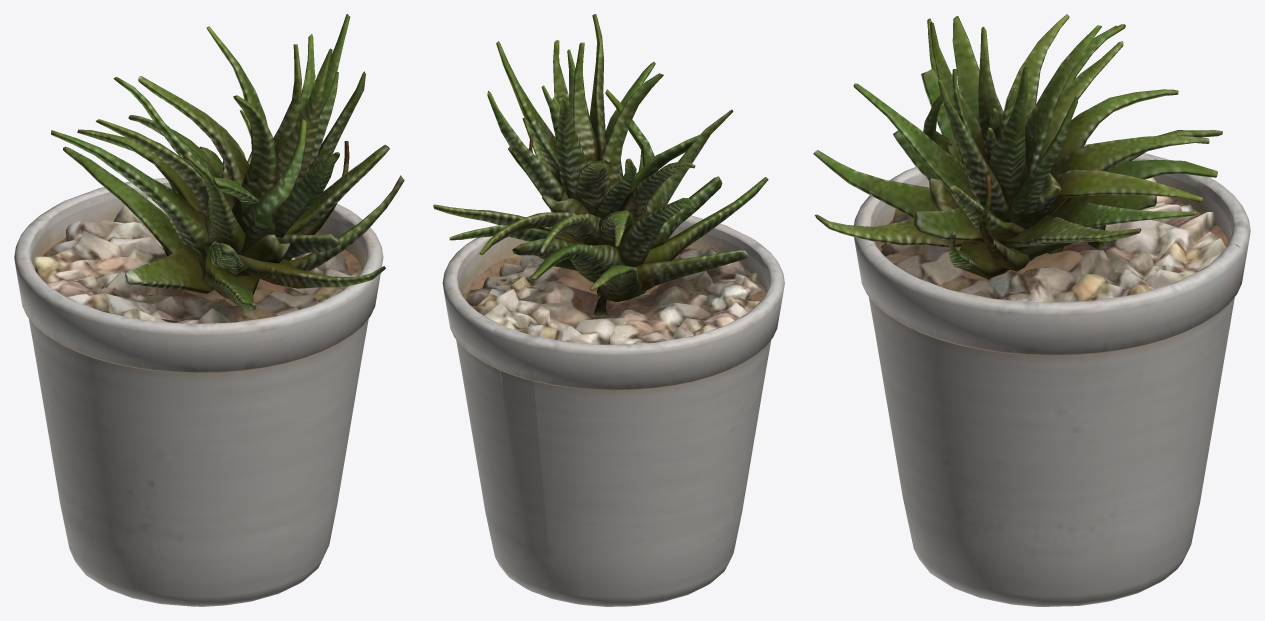
The model's file is aloe-pot.glb.
3 renders of one model, left to right at view 1: azimuth 30°, elevation 25°; view 2: azimuth 150°, elevation 25°; view 3: azimuth 270°, elevation 25°, orthographic. The views are drawn at different scales.
Visible parts, largest first — view 1: potted_plant_04_pot, potted_plant_04_plant, potted_plant_04_ground, potted_plant_04_dirt; view 2: potted_plant_04_pot, potted_plant_04_plant, potted_plant_04_ground, potted_plant_04_dirt; view 3: potted_plant_04_pot, potted_plant_04_plant, potted_plant_04_ground, potted_plant_04_dirt.
Part boxes in pixels (bbox=[...]): potted_plant_04_pot: bbox=[14, 178, 383, 606]; potted_plant_04_plant: bbox=[51, 14, 404, 311]; potted_plant_04_ground: bbox=[34, 196, 357, 323]; potted_plant_04_dirt: bbox=[30, 237, 361, 305]; potted_plant_04_pot: bbox=[442, 215, 784, 606]; potted_plant_04_plant: bbox=[433, 14, 768, 315]; potted_plant_04_ground: bbox=[463, 247, 761, 344]; potted_plant_04_dirt: bbox=[461, 247, 769, 307]; potted_plant_04_pot: bbox=[854, 144, 1250, 606]; potted_plant_04_plant: bbox=[813, 14, 1222, 279]; potted_plant_04_ground: bbox=[881, 177, 1226, 302]; potted_plant_04_dirt: bbox=[875, 199, 1236, 280].
Bounding box in the file's own units: 0.168 × 0.2676 × 0.1848.
1 material, 1 textured.
